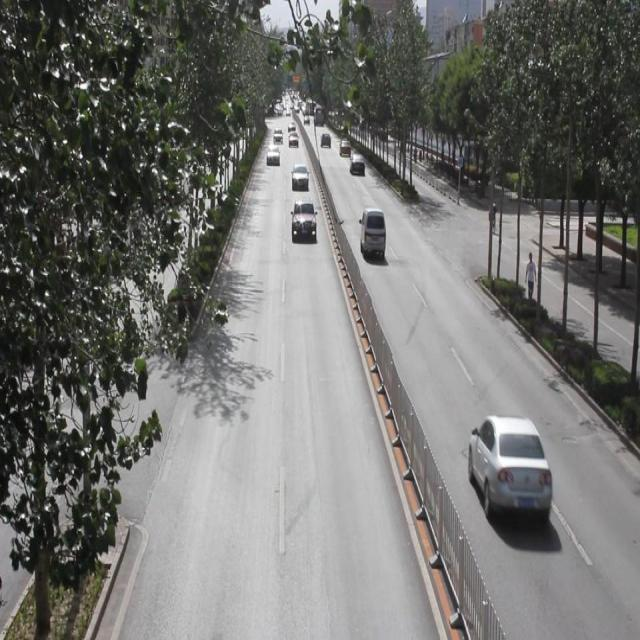car: (466, 412, 550, 520), (292, 199, 317, 240), (290, 162, 309, 191), (350, 150, 364, 176), (265, 143, 280, 165), (338, 136, 350, 158), (319, 130, 332, 150), (272, 127, 284, 143), (287, 132, 298, 146)
truck: (359, 208, 386, 260)
